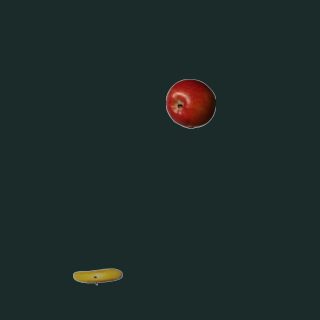Apple Braeburn: (165, 78, 215, 128)
Banana: (72, 251, 122, 301)
